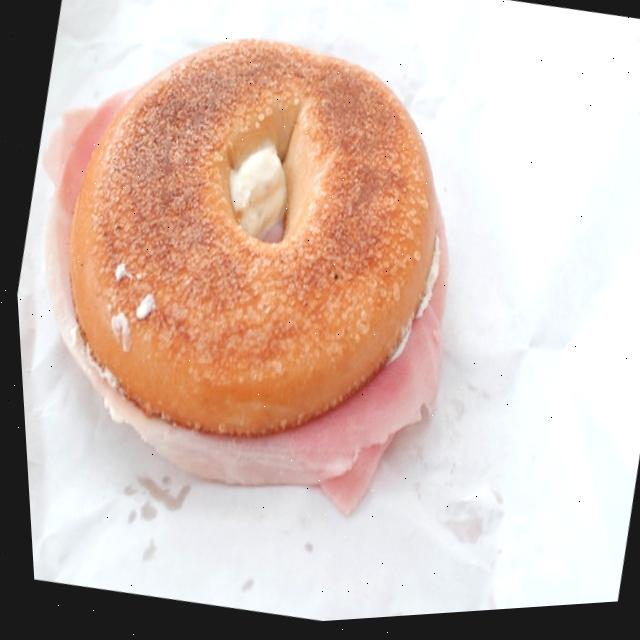面包点心: (0, 0, 542, 567)
